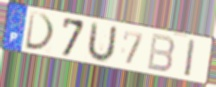7: (61, 16, 86, 58), (122, 30, 144, 66)
B: (145, 32, 176, 74)
D: (24, 10, 57, 53)
I: (183, 38, 197, 79)
U: (85, 21, 119, 64)
